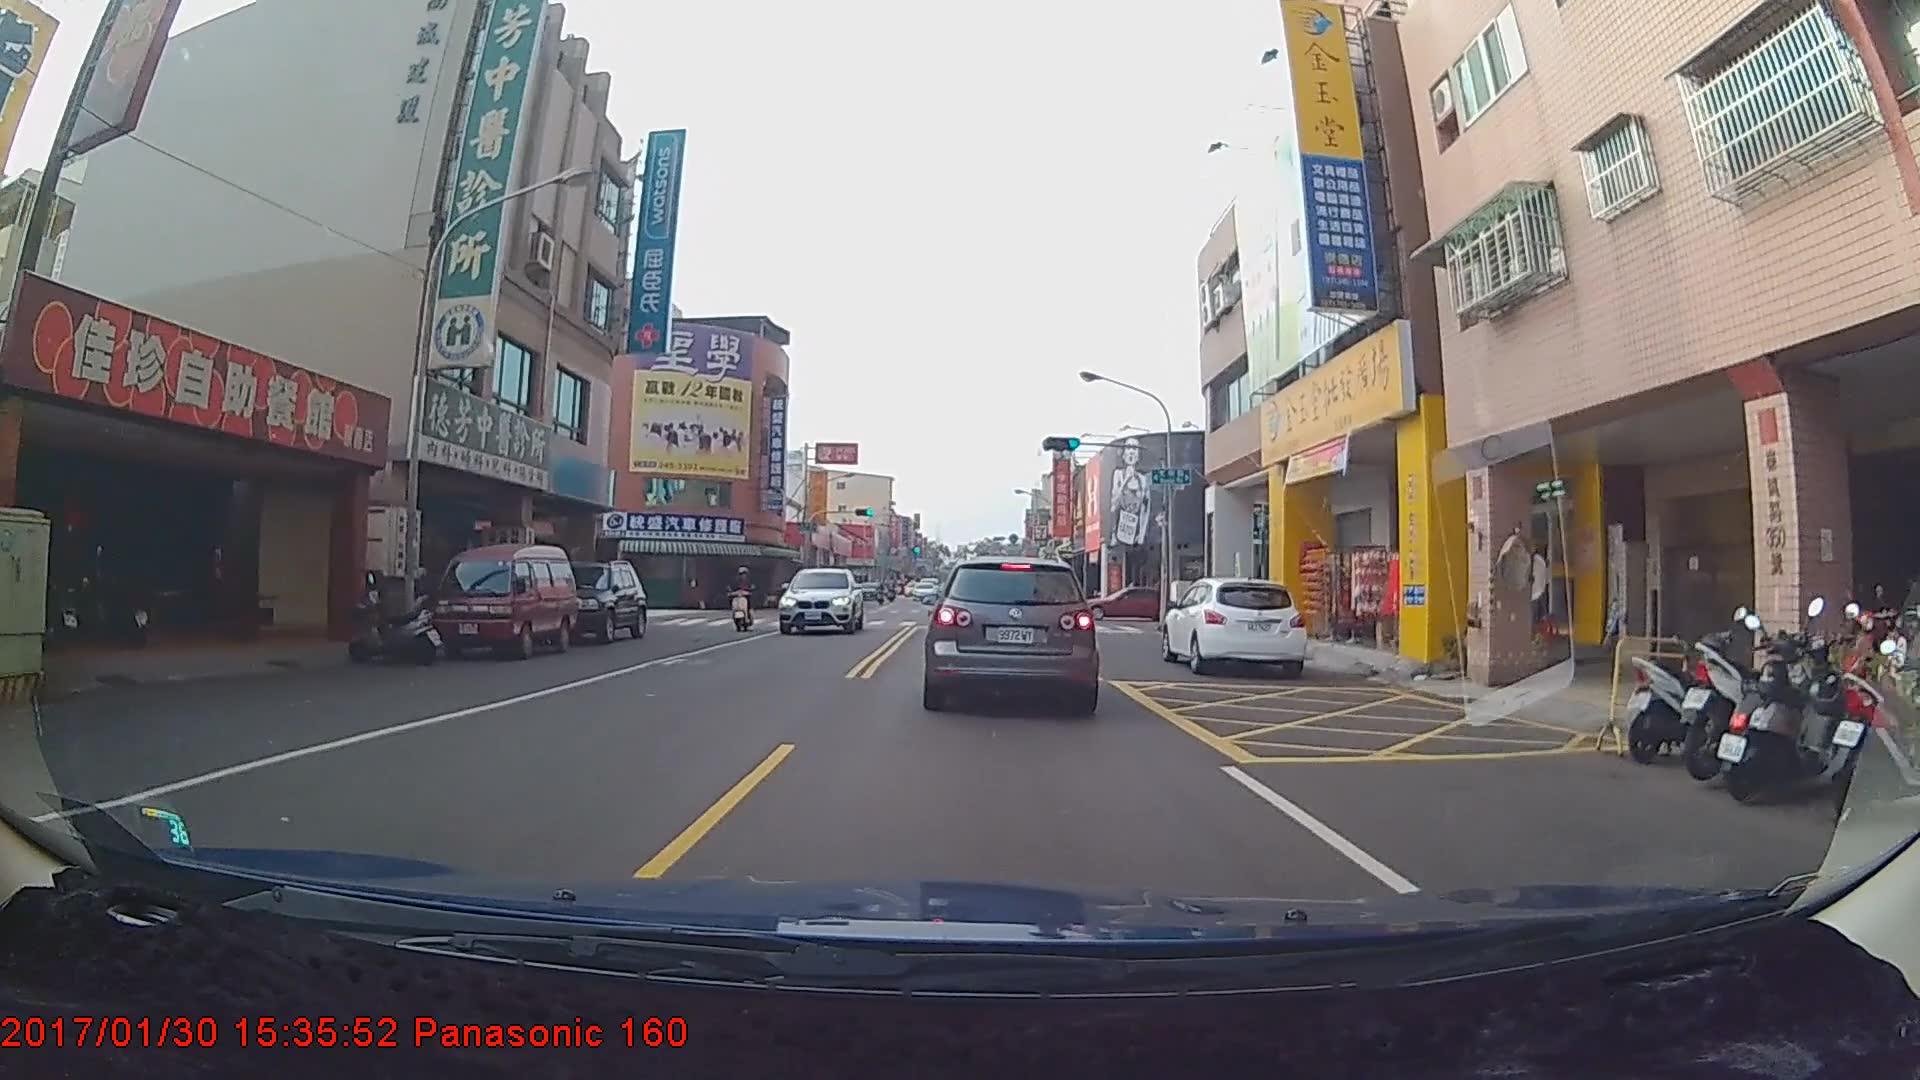rider: (723, 561, 764, 631)
vehicle: (925, 554, 1097, 712), (431, 538, 577, 654), (1163, 572, 1309, 678), (534, 557, 646, 642), (785, 558, 866, 631), (1075, 589, 1185, 621), (912, 577, 937, 597)
